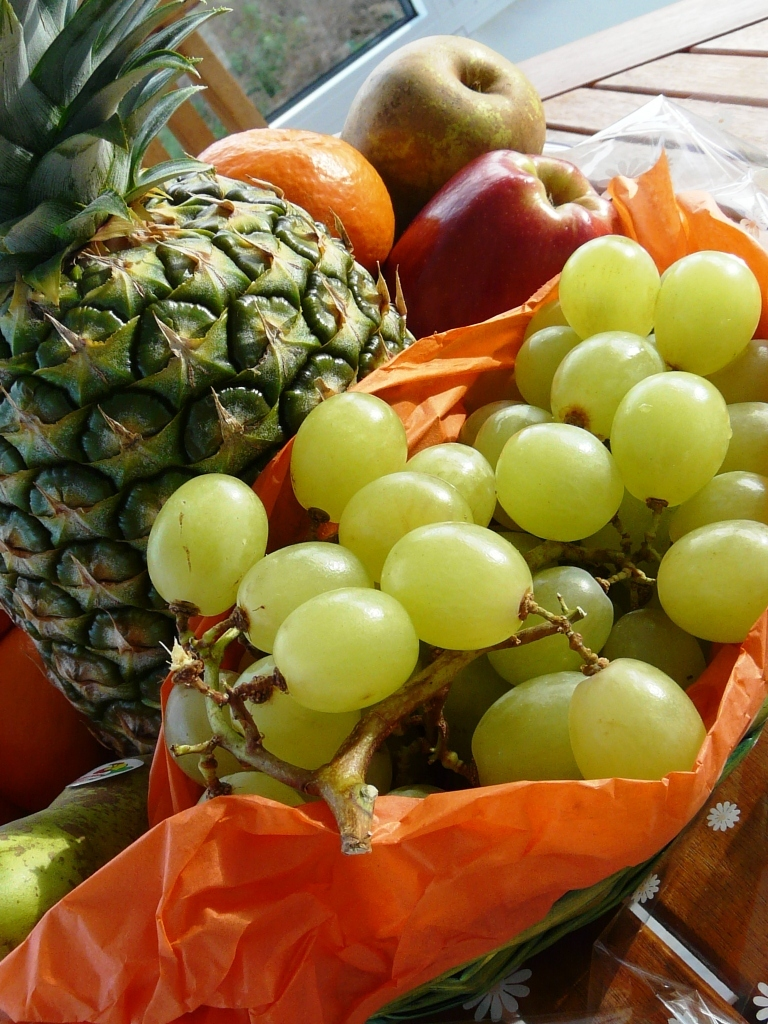Apple: (382, 149, 620, 344), (340, 35, 562, 186)
